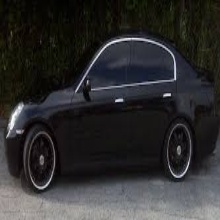no damage: (4, 32, 220, 192)
